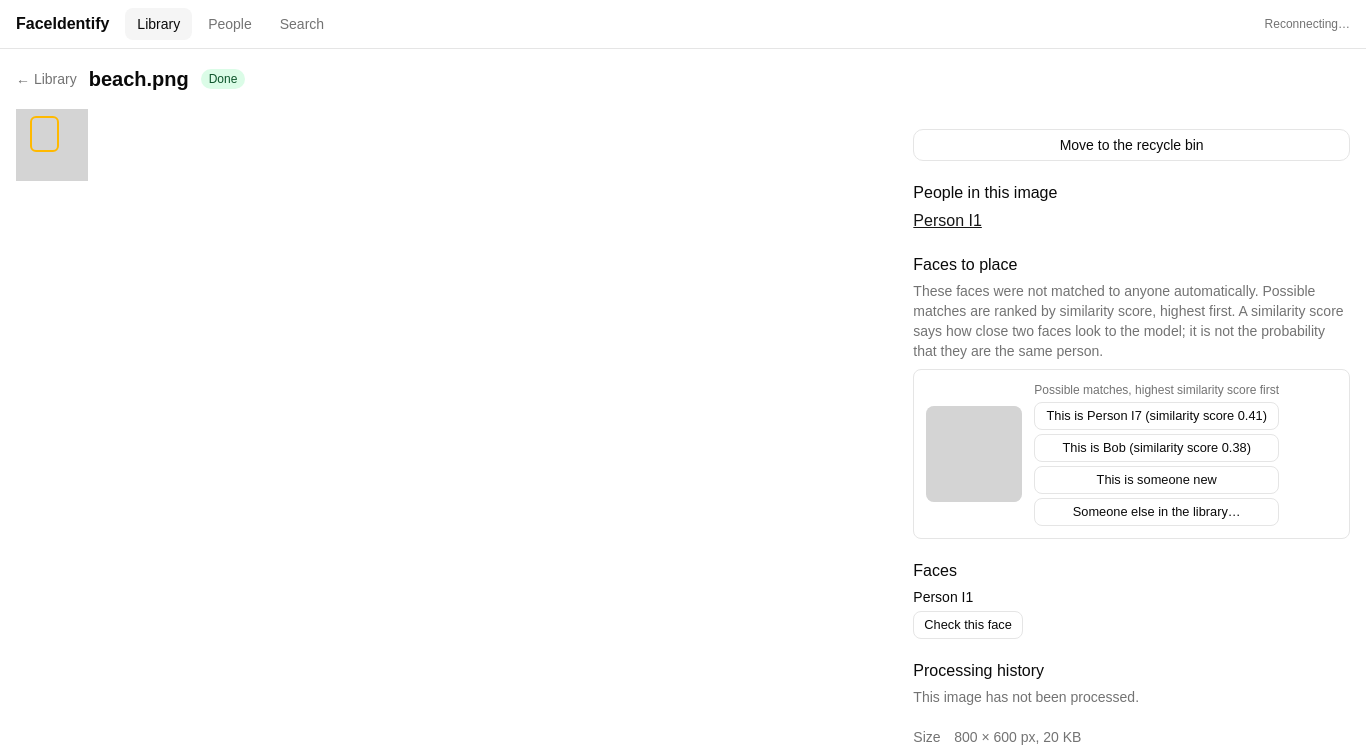
faces to place › says so when the face could not be placed
Click the button "This is someone new" at (1157, 480), box [1034, 466, 1279, 494]
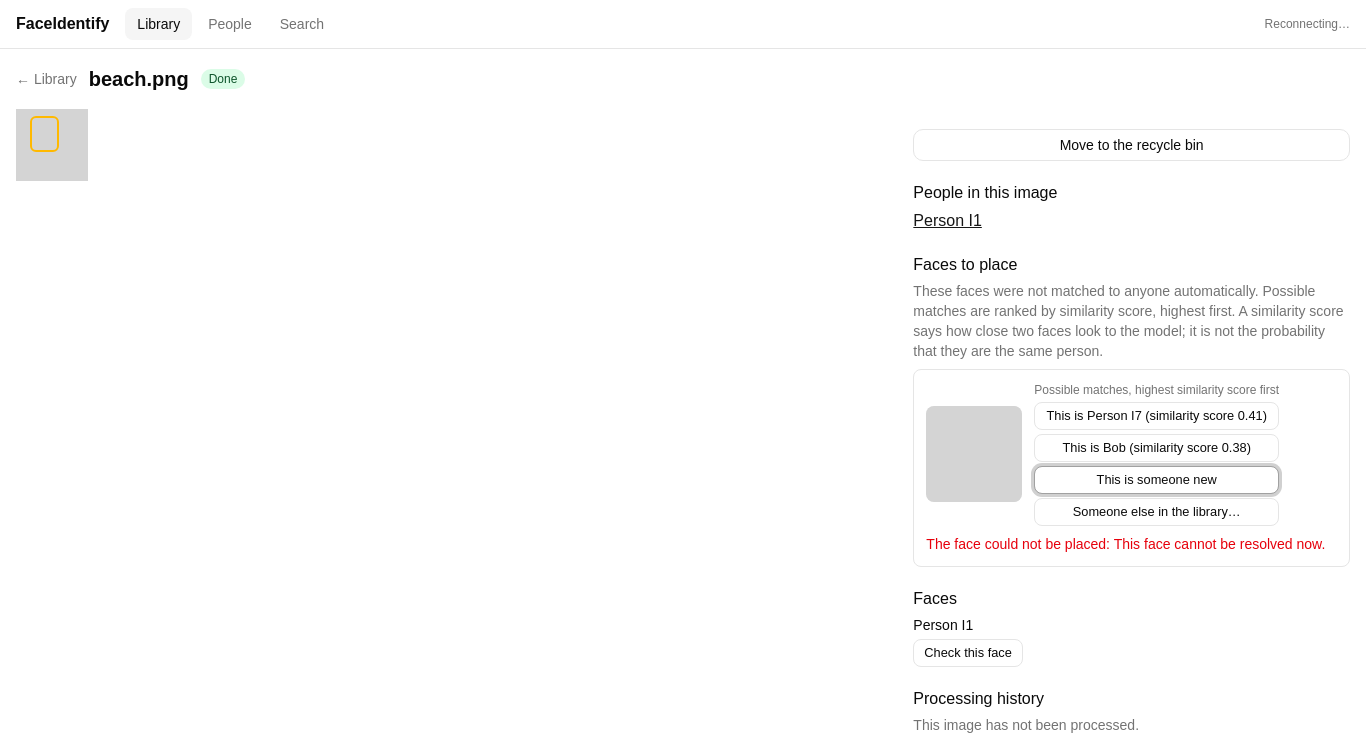
Check: the message "The face could not be placed: This face cannot be resolved now." is shown, box [926, 534, 1337, 554]
